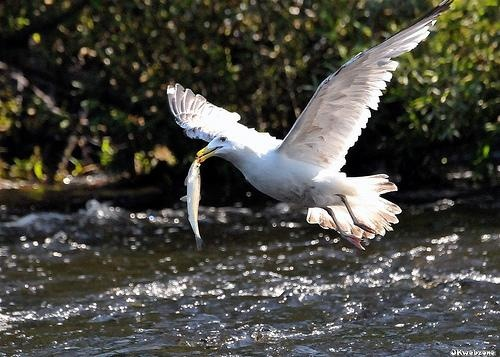bird: (165, 1, 446, 249)
